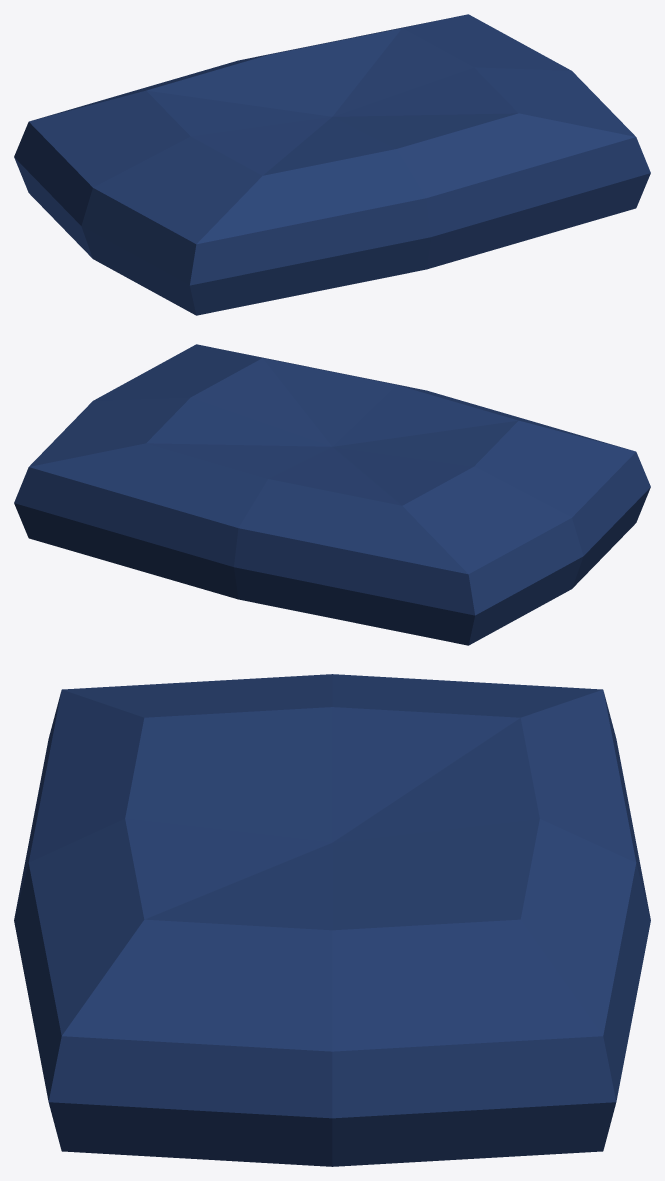
Rendered from Itr_Bed_Pillow_17.FBX.
3 views of the same model, one above another, from view 1: azimuth 30°, elevation 25°; view 2: azimuth 150°, elevation 25°; view 3: azimuth 270°, elevation 25° (orthographic). The views are drawn at different scales.
Parts seen in each view (by area): view 1: Itr_Bed_Pillow_17; view 2: Itr_Bed_Pillow_17; view 3: Itr_Bed_Pillow_17.
Part boxes in pixels (box(x1,y1,x2,y2)): Itr_Bed_Pillow_17: box(14, 14, 650, 315); Itr_Bed_Pillow_17: box(14, 344, 650, 645); Itr_Bed_Pillow_17: box(14, 674, 650, 1166).
Size of the model in its own units: 21.39 by 4.02 by 14.55.
